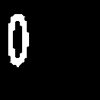chain: (9, 14, 28, 66)
